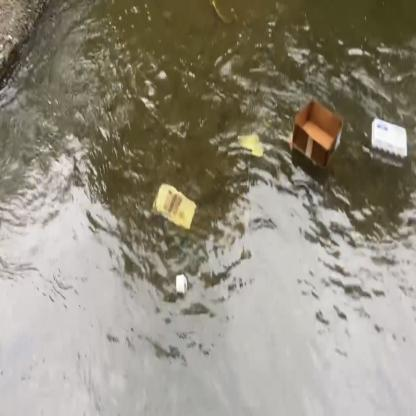trash: (290, 96, 346, 171), (148, 178, 198, 234), (368, 114, 410, 163), (236, 128, 267, 160), (174, 270, 186, 296), (183, 273, 188, 295)
